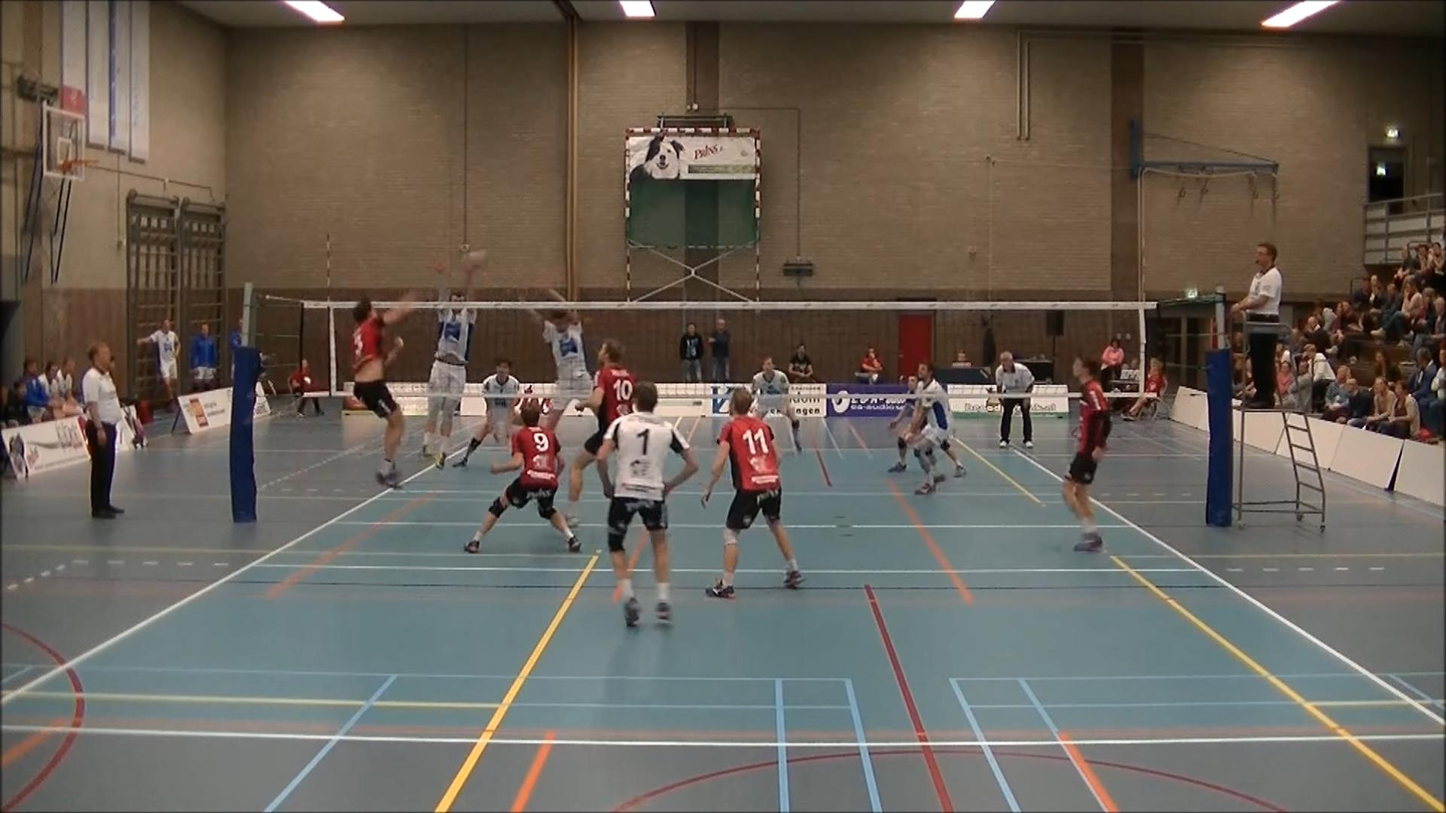Attack: (325, 283, 438, 495)
Block: (417, 241, 489, 482), (521, 277, 603, 438)
Player: (596, 383, 698, 626), (700, 388, 802, 598), (465, 400, 580, 553), (566, 340, 635, 526), (1063, 358, 1111, 552), (905, 362, 964, 494), (454, 358, 520, 467), (752, 356, 801, 451), (888, 376, 918, 473)
